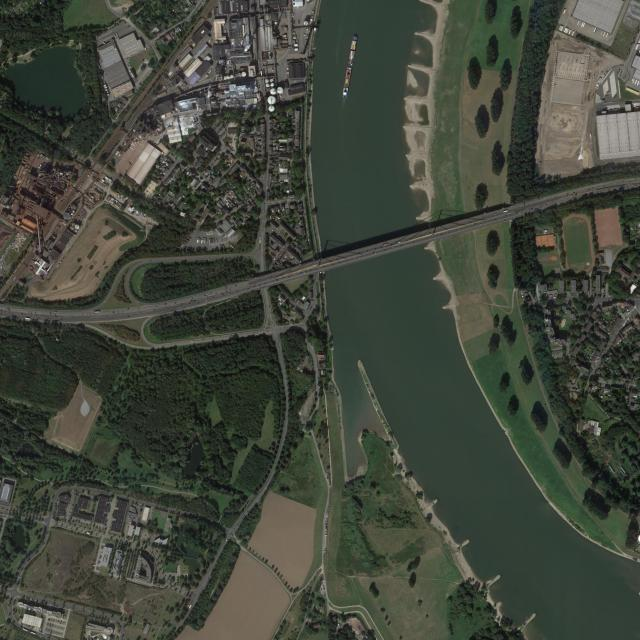ship: (340, 36, 359, 100)
storage-tank: (267, 95, 276, 104), (278, 86, 284, 95), (270, 88, 277, 95), (269, 105, 275, 112), (271, 82, 275, 87), (270, 78, 274, 82), (266, 84, 269, 88), (266, 79, 269, 83)
